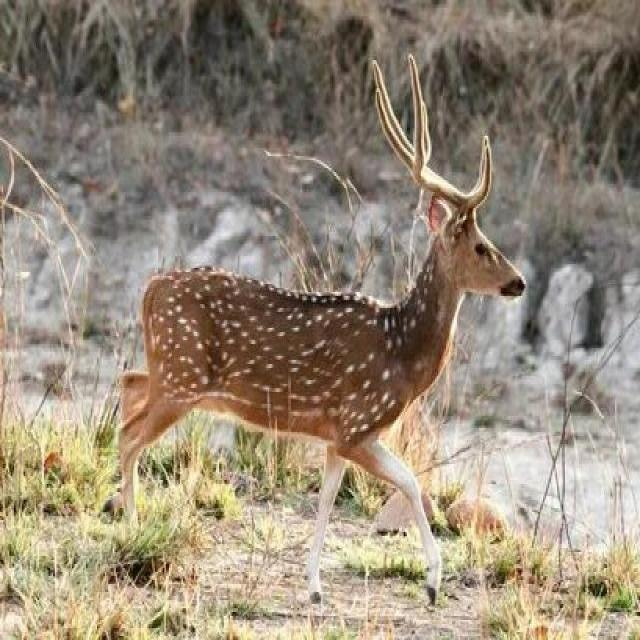deer: (89, 130, 566, 601)
